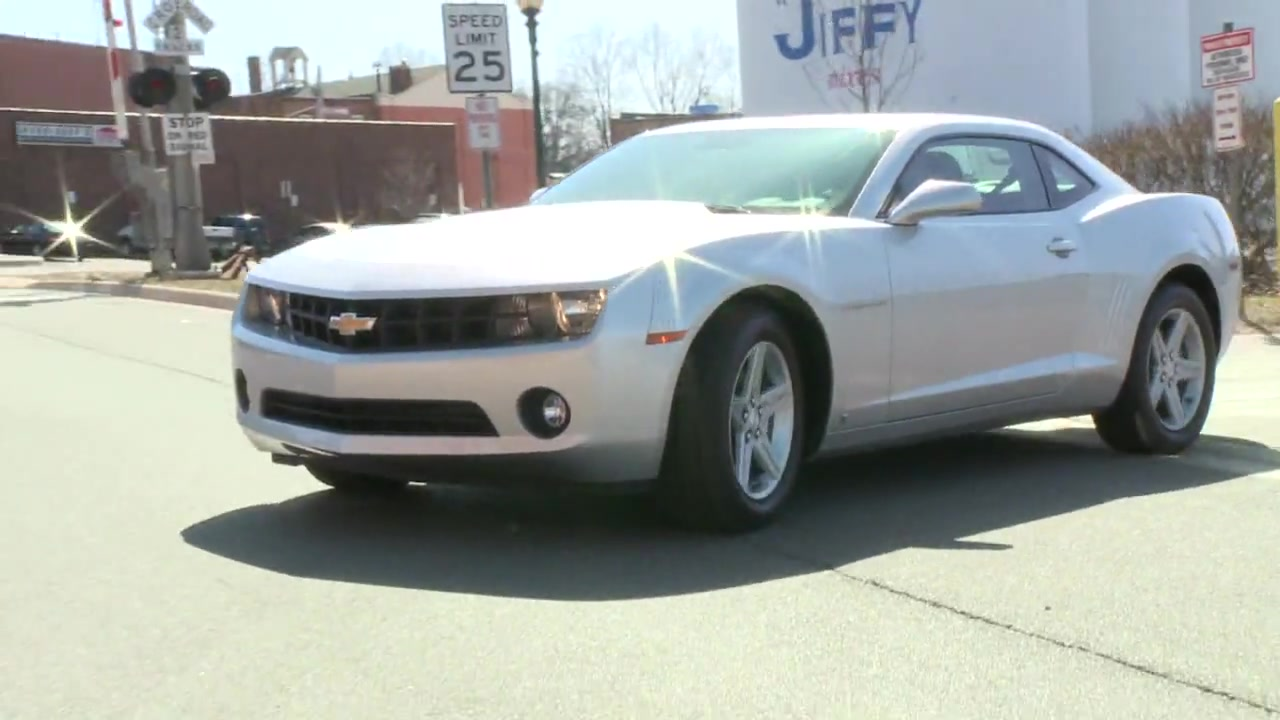car: (231, 114, 1246, 538)
